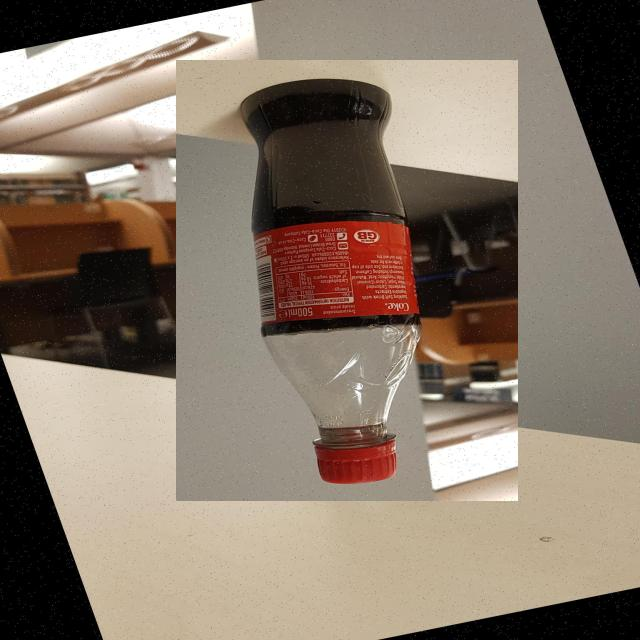coca-cola: (176, 60, 518, 501)
